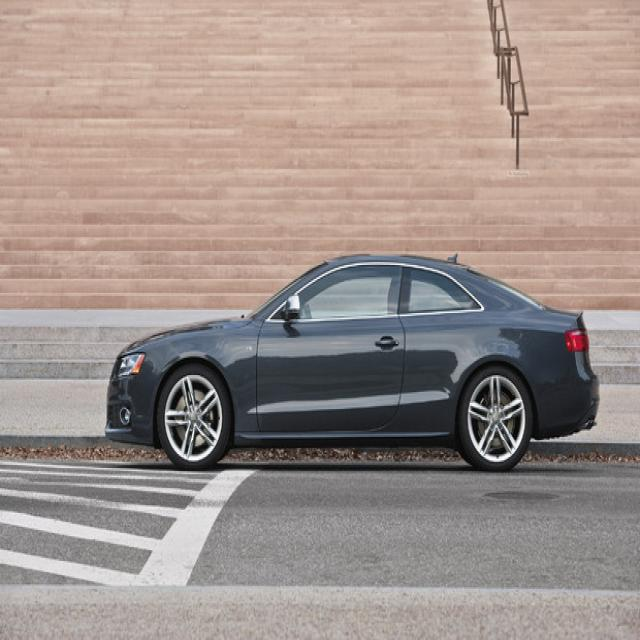car: (105, 251, 600, 475)
